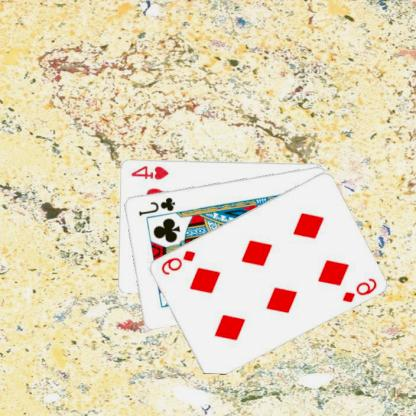4H: (130, 162, 171, 181)
6D: (160, 247, 198, 276), (341, 275, 379, 304)
JC: (137, 194, 178, 217)
